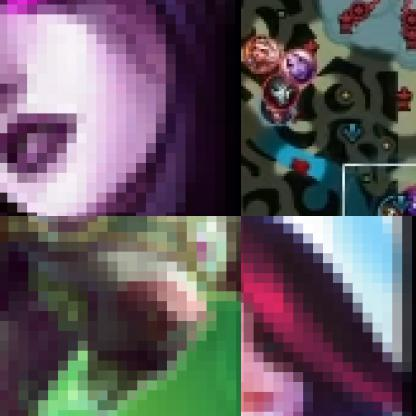Draven: (258, 92, 296, 126)
Fiora: (241, 216, 415, 415)
Jhin: (261, 75, 300, 109)
Malzahar: (398, 183, 415, 215)
Morgana: (0, 0, 240, 215)
Qiyana: (244, 34, 282, 73)
Renekton: (377, 193, 416, 215)
Soraka: (280, 47, 319, 84)
Twitch: (0, 216, 240, 415)
